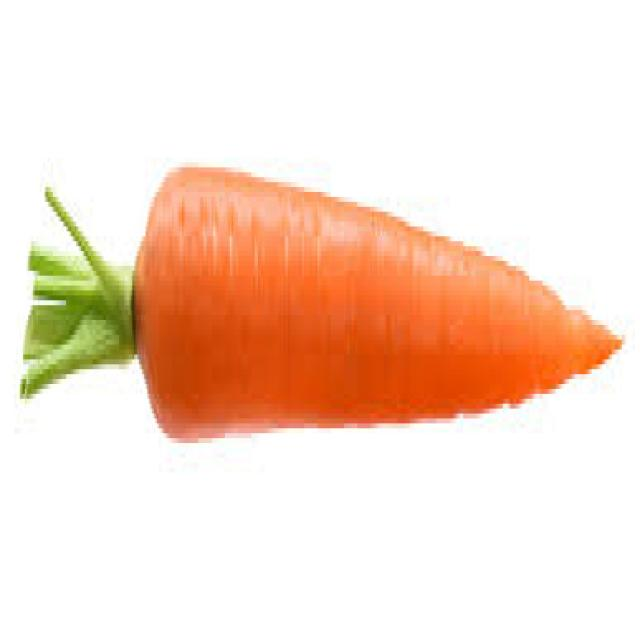carrot: (130, 158, 625, 438)
